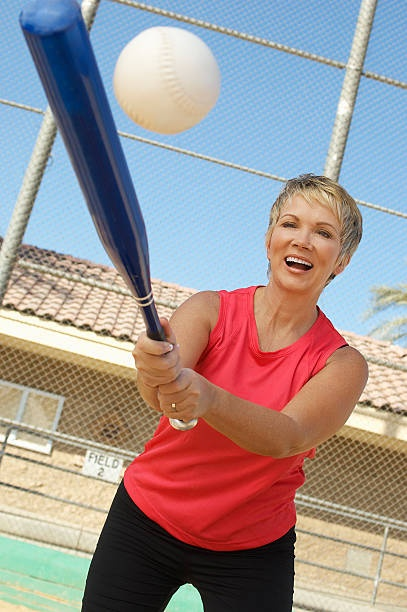bita: (25, 1, 195, 423)
